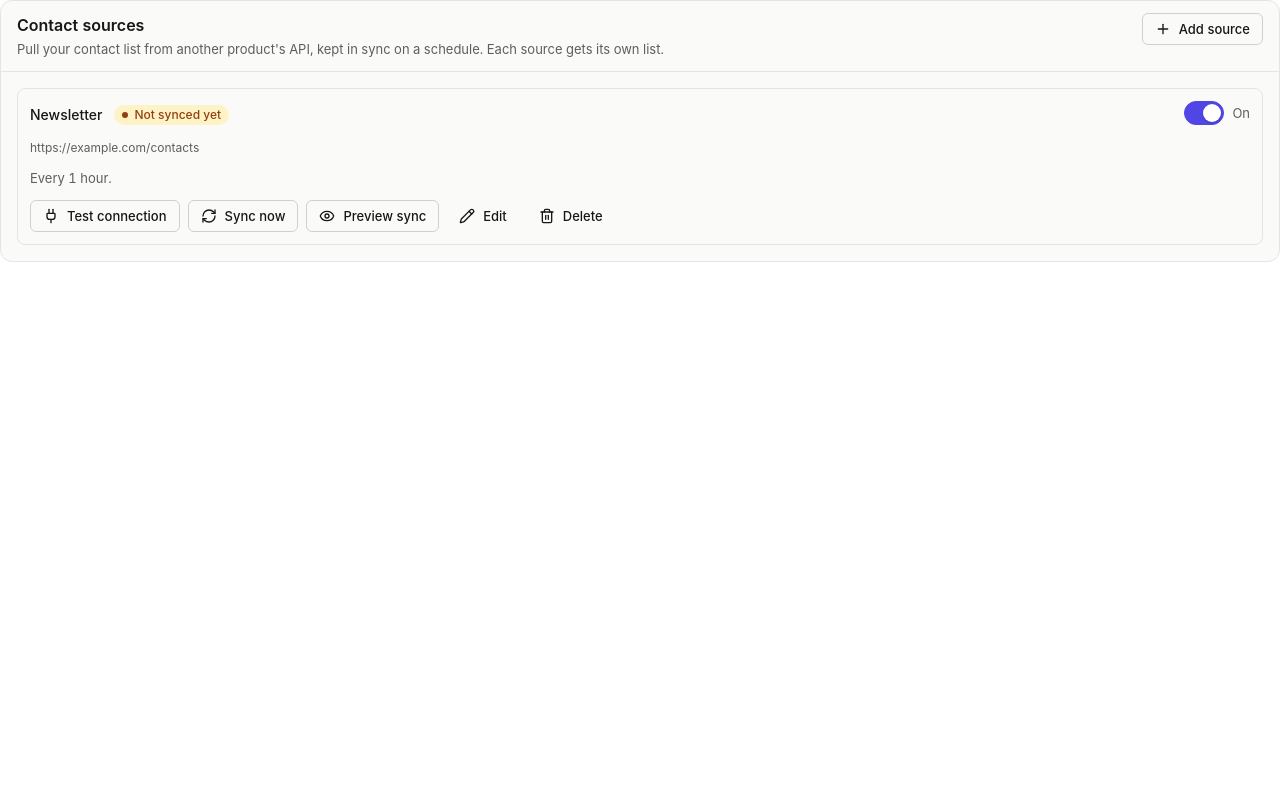
preview sync › with full reads off, the note says full reads are off (and no 'there is more')
Click the button with aria-label "Preview the next sync of Newsletter": click(373, 216) [306, 200, 439, 232]
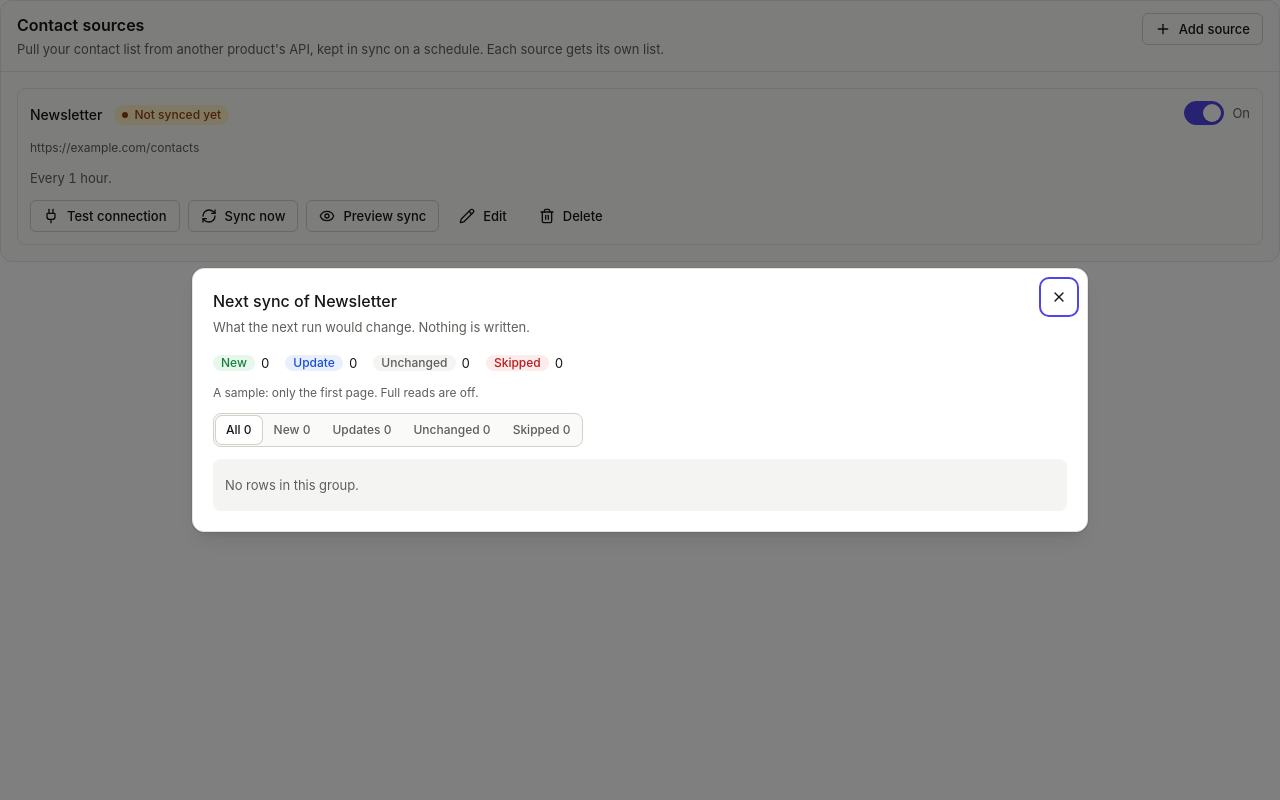
Check: the text "A sample: only the first page. Full reads are off." is shown, box [213, 385, 479, 400]
Check: the text "No rows in this group." is shown, box [213, 459, 1067, 511]
